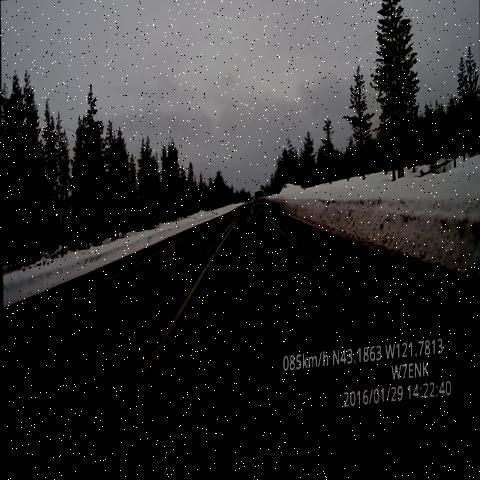pothole: (236, 211, 256, 230)
